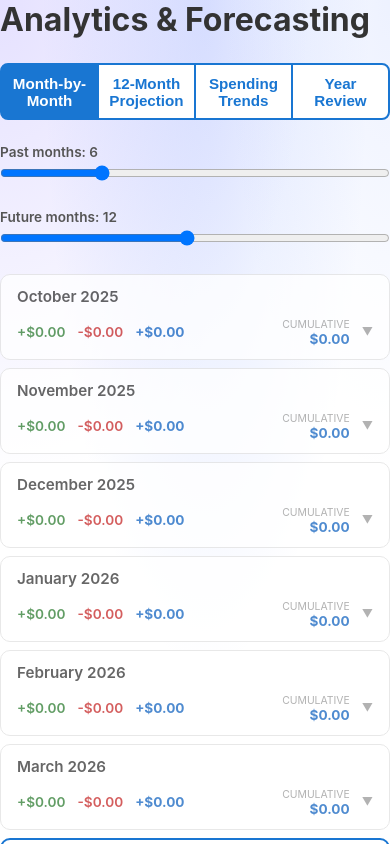
AnalyticsView › shows empty messages for months with no items
Click the button with class "month-header" that starts with "October 2025". click: (68, 296)
box: [1,275,389,359]
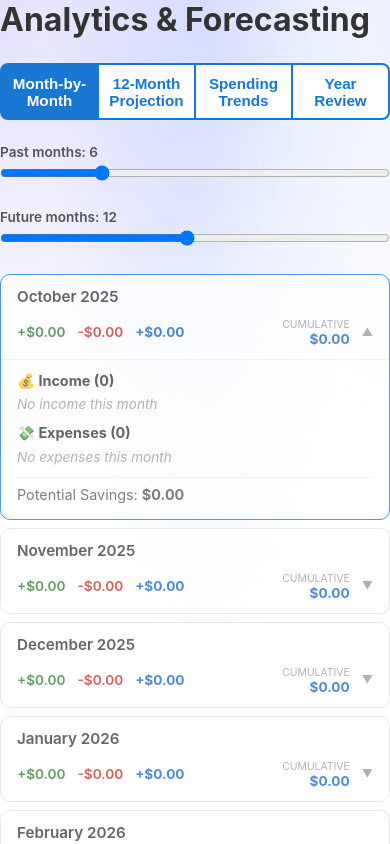
Expected: the text "No income this month" is shown, [17,396,158,412]
Expected: the text "No expenses this month" is shown, [17,449,172,465]
